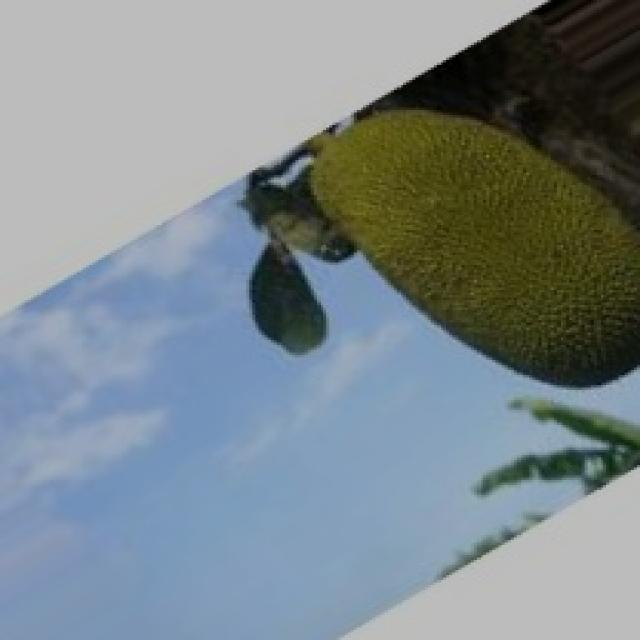fruit: (246, 265, 622, 635)
